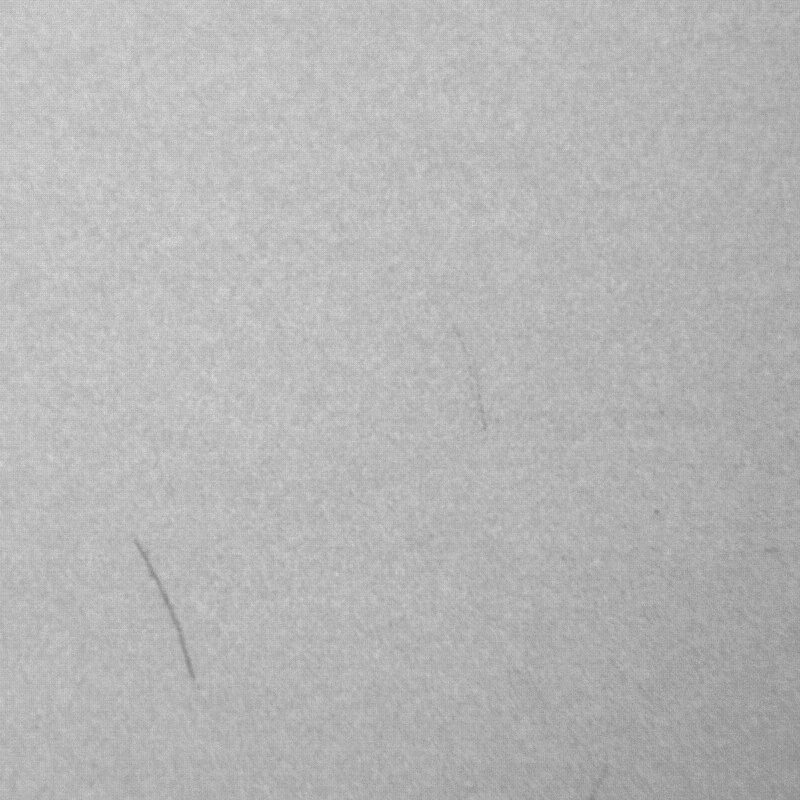defect: (134, 540, 205, 690), (454, 329, 491, 429), (588, 763, 606, 799)
